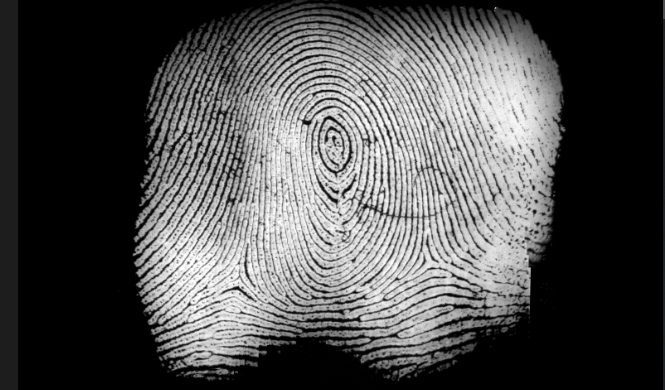deltas: (206, 253, 271, 304), (409, 233, 453, 279)
nucleo: (313, 117, 350, 161)
